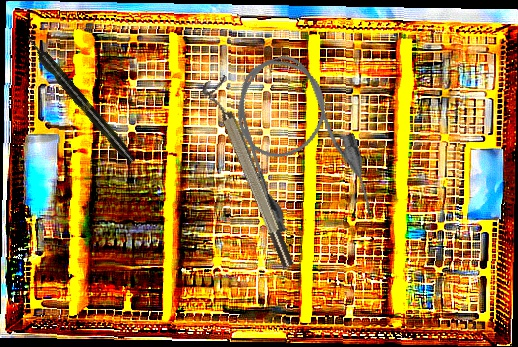Cannula: (219, 42, 381, 246)
Fixation Ring: (199, 74, 298, 273)
Handpiece: (22, 32, 138, 166)
